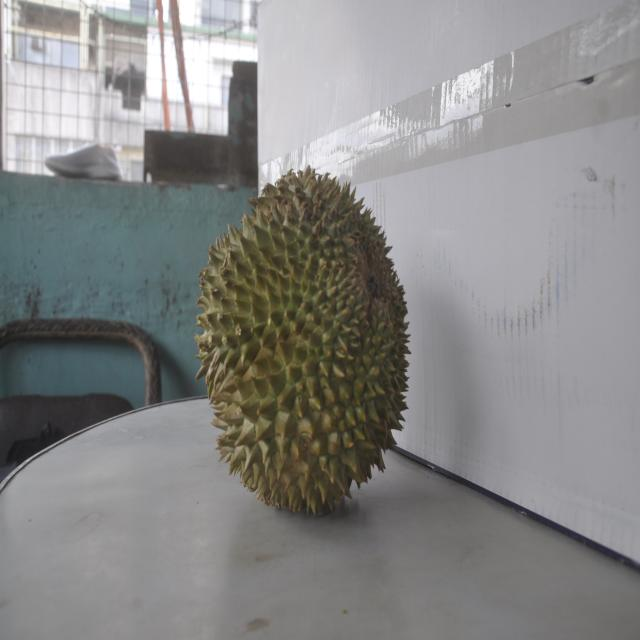mature: (197, 163, 405, 512)
